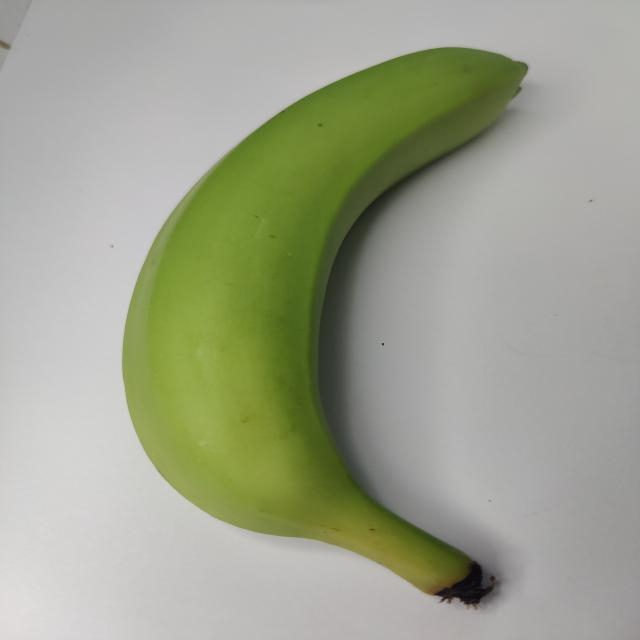raw: (90, 31, 594, 617)
